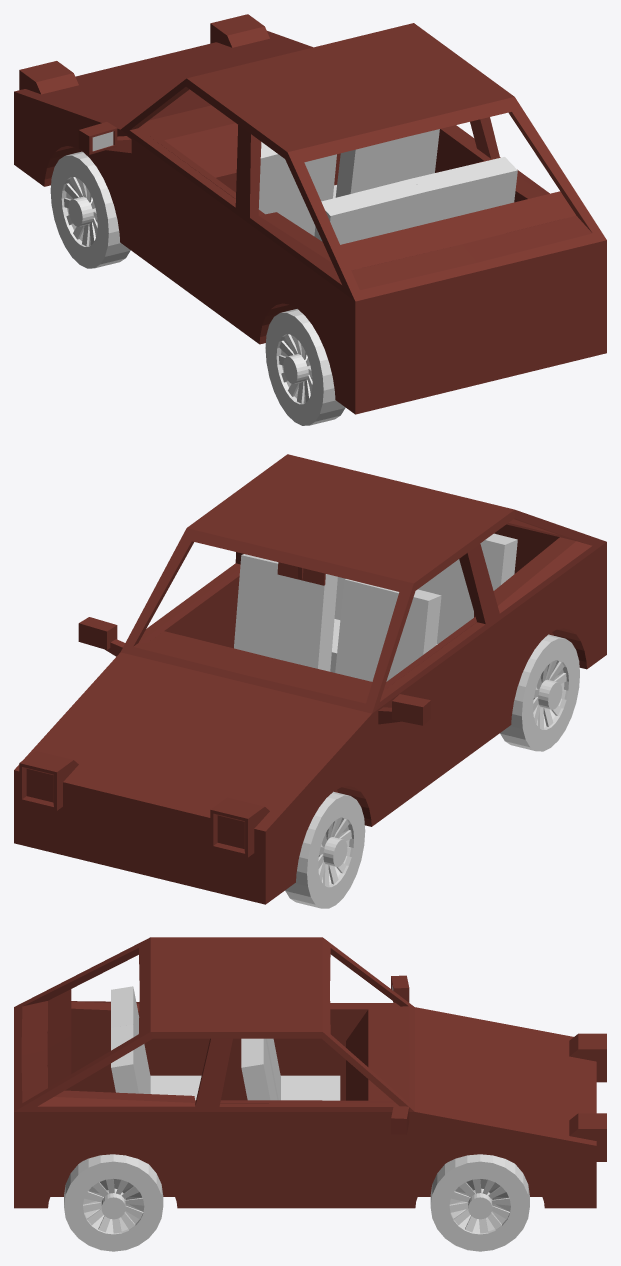
Rendered from Car_2.glb.
The picture shows the model from 3 angles, top to bottom: view 1: azimuth 30°, elevation 25°; view 2: azimuth 150°, elevation 25°; view 3: azimuth 270°, elevation 25°; orthographic projection. The views are drawn at different scales.
Visible parts, largest first — view 1: Chassis-col, Back Seats, Front Seats, Back_Left_Wheel, Front_Left_Wheel; view 2: Chassis-col, Front Seats, Front_Left_Wheel, Back_Left_Wheel, Back Seats; view 3: Chassis-col, Front_Right_Wheel, Back_Right_Wheel, Back Seats, Front Seats.
Boxes of the visible parts, box(x1,y1,x2,y2) form: Chassis-col: box(14, 14, 606, 414); Back Seats: box(314, 157, 517, 244); Front Seats: box(258, 129, 439, 235); Back_Left_Wheel: box(265, 309, 345, 425); Front_Left_Wheel: box(50, 151, 130, 268); Chassis-col: box(14, 454, 606, 904); Front Seats: box(234, 554, 441, 681); Front_Left_Wheel: box(285, 791, 365, 908); Back_Left_Wheel: box(500, 634, 579, 751); Back Seats: box(330, 533, 517, 672); Chassis-col: box(14, 937, 606, 1208); Front_Right_Wheel: box(430, 1154, 529, 1251); Back_Right_Wheel: box(64, 1154, 163, 1251); Back Seats: box(111, 986, 201, 1100); Front Seats: box(241, 1038, 340, 1100).
Size of the model in its own units: 3.49 by 2.43 by 6.1.
Materials: 4 (4 with a texture image).
